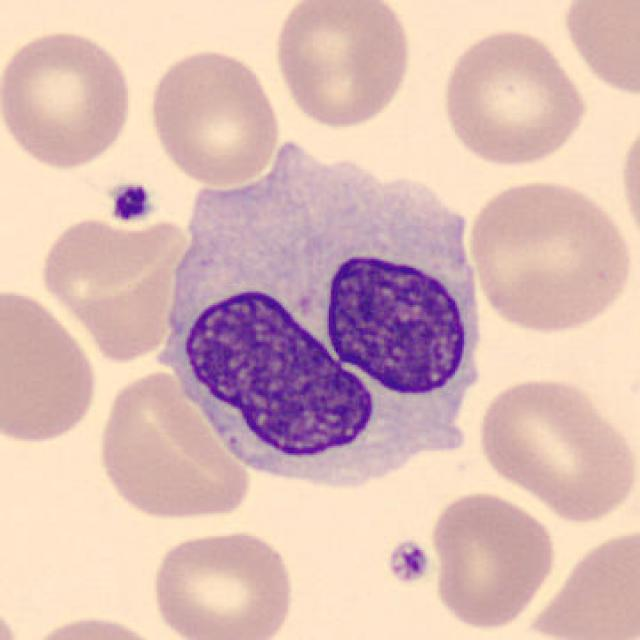Monocyte: (138, 134, 498, 504)
Platelets: (382, 536, 432, 587), (106, 178, 156, 226)
RBC: (462, 175, 636, 336), (93, 362, 255, 526), (473, 372, 636, 524), (438, 23, 590, 171), (0, 23, 137, 173), (144, 44, 284, 189), (425, 487, 560, 633), (268, 0, 415, 130), (148, 525, 298, 640), (0, 282, 101, 449), (34, 212, 186, 305), (521, 523, 640, 640), (556, 0, 638, 102), (16, 610, 176, 640), (615, 111, 640, 252)
